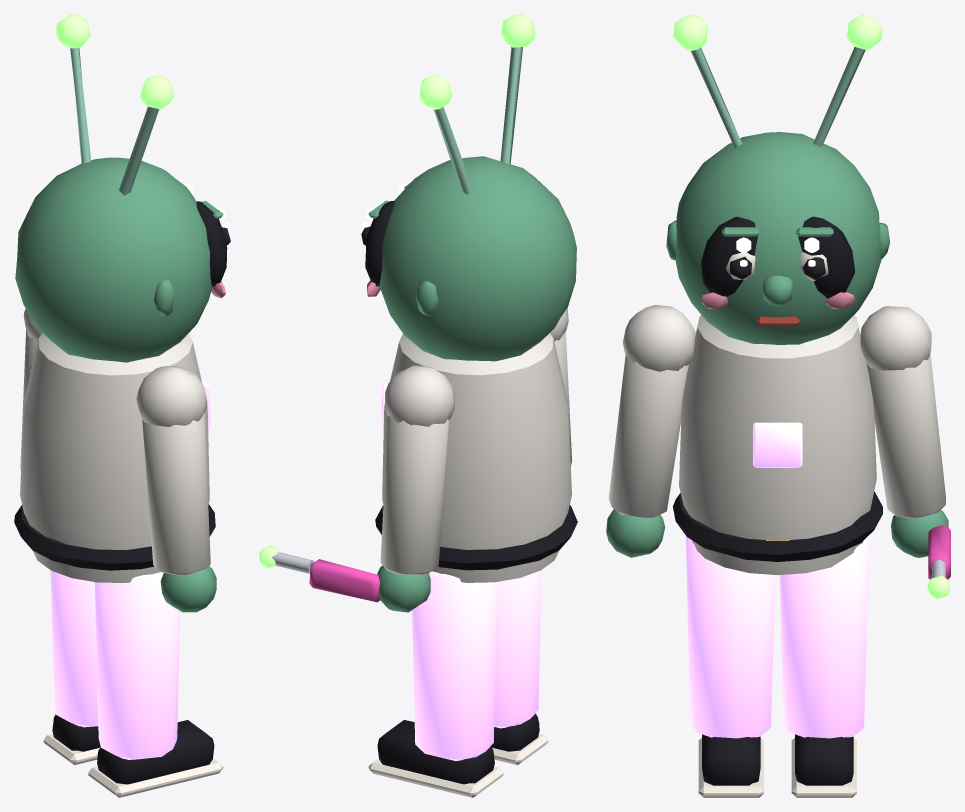
The model's file is alien.glb.
3 renders of one model, left to right at view 1: azimuth 30°, elevation 25°; view 2: azimuth 150°, elevation 25°; view 3: azimuth 270°, elevation 25°, orthographic. The views are drawn at different scales.
Parts seen in each view (by area): view 1: alien; view 2: alien; view 3: alien.
Boxes of the visible parts, x1,y1,x2,y2 form: alien: (14,14,230,797); alien: (259,14,577,797); alien: (606,14,950,797).
Size of the model in its own units: 0.438 by 1.33 by 0.5557.
Materials: 1 (1 with a texture image).
